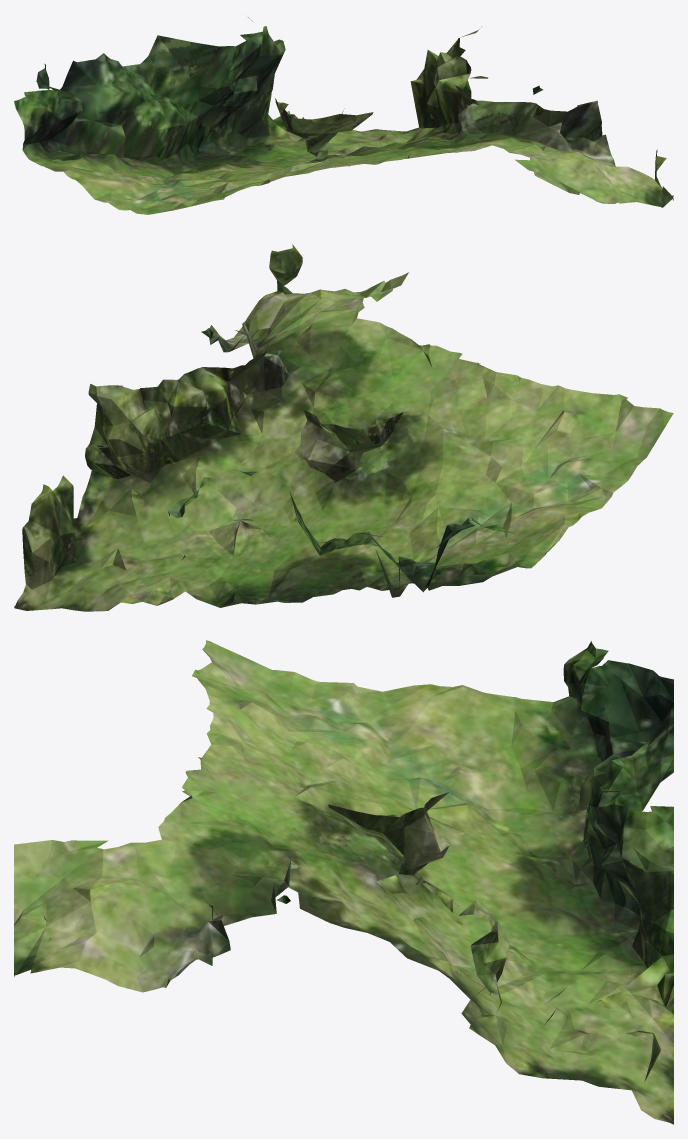
3 renders of one model, top to bottom at view 1: azimuth 30°, elevation 25°; view 2: azimuth 150°, elevation 25°; view 3: azimuth 270°, elevation 25°, orthographic. The views are drawn at different scales.
Size of the model in its own units: 26.11 by 9 by 26.11.
Materials: 3 (3 with a texture image).
